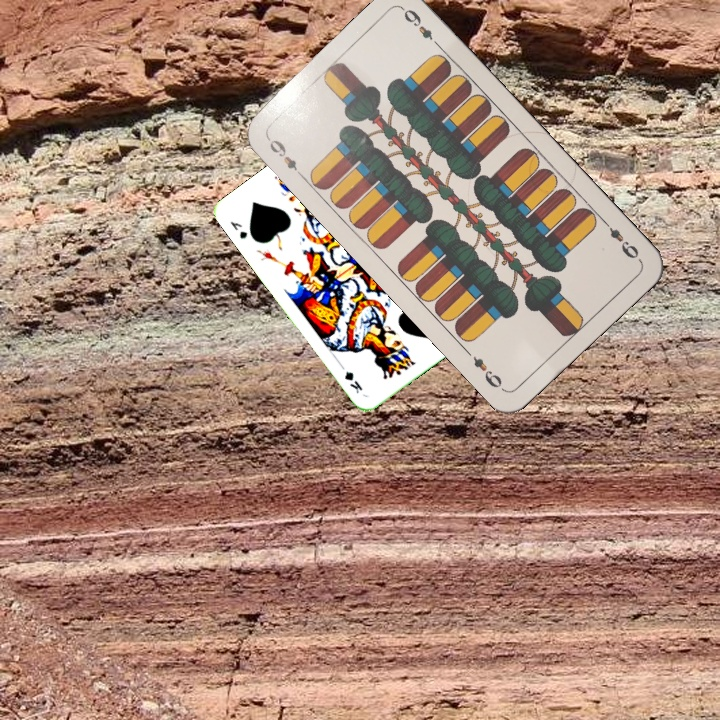E9: (262, 133, 307, 181), (599, 216, 642, 262)
GK: (226, 217, 250, 241)
